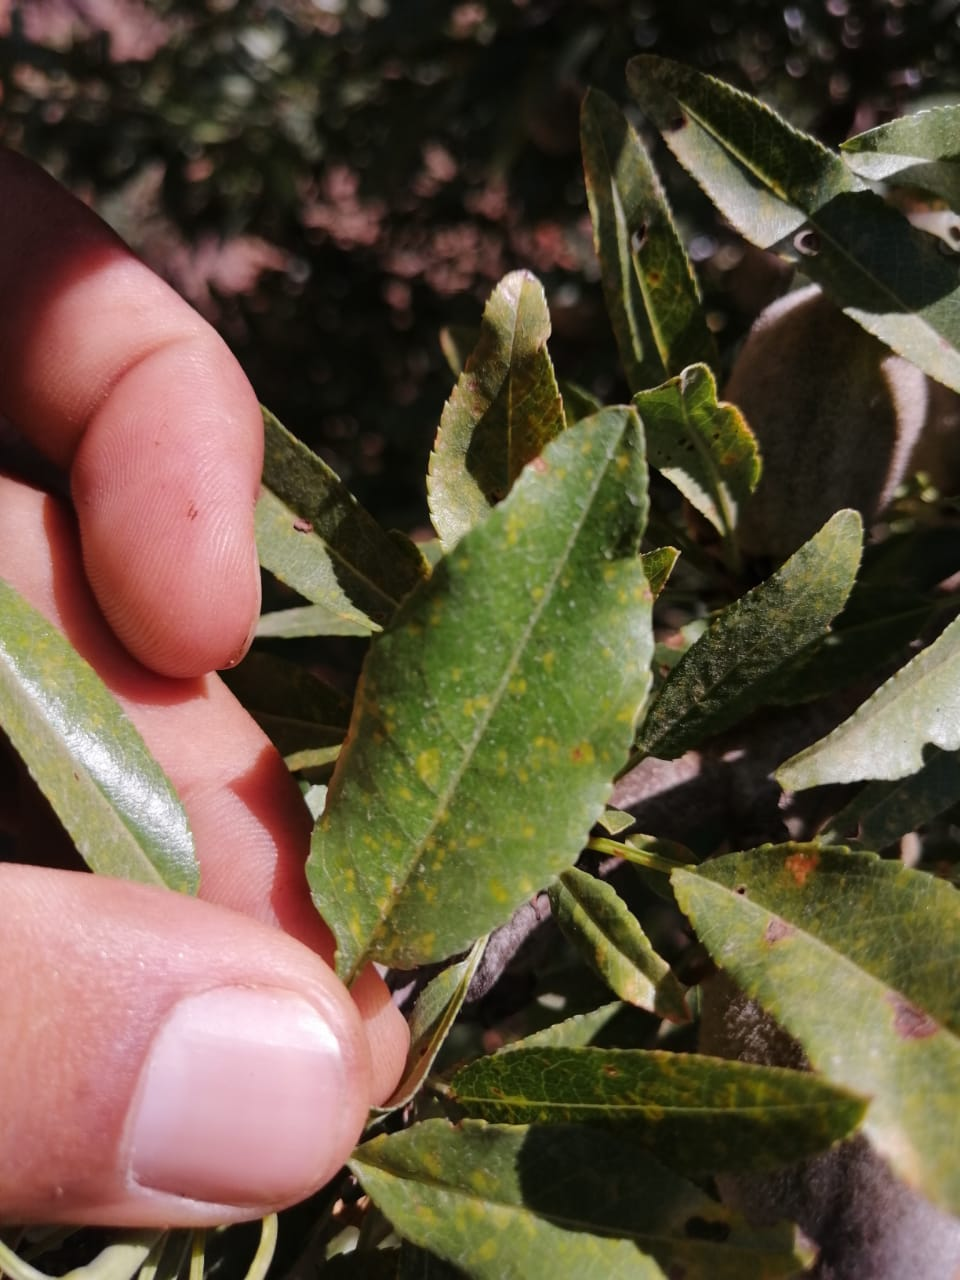rouille: (307, 404, 652, 969), (669, 844, 960, 1222), (434, 1048, 878, 1188), (663, 504, 867, 771), (421, 267, 569, 552), (576, 87, 711, 391)
